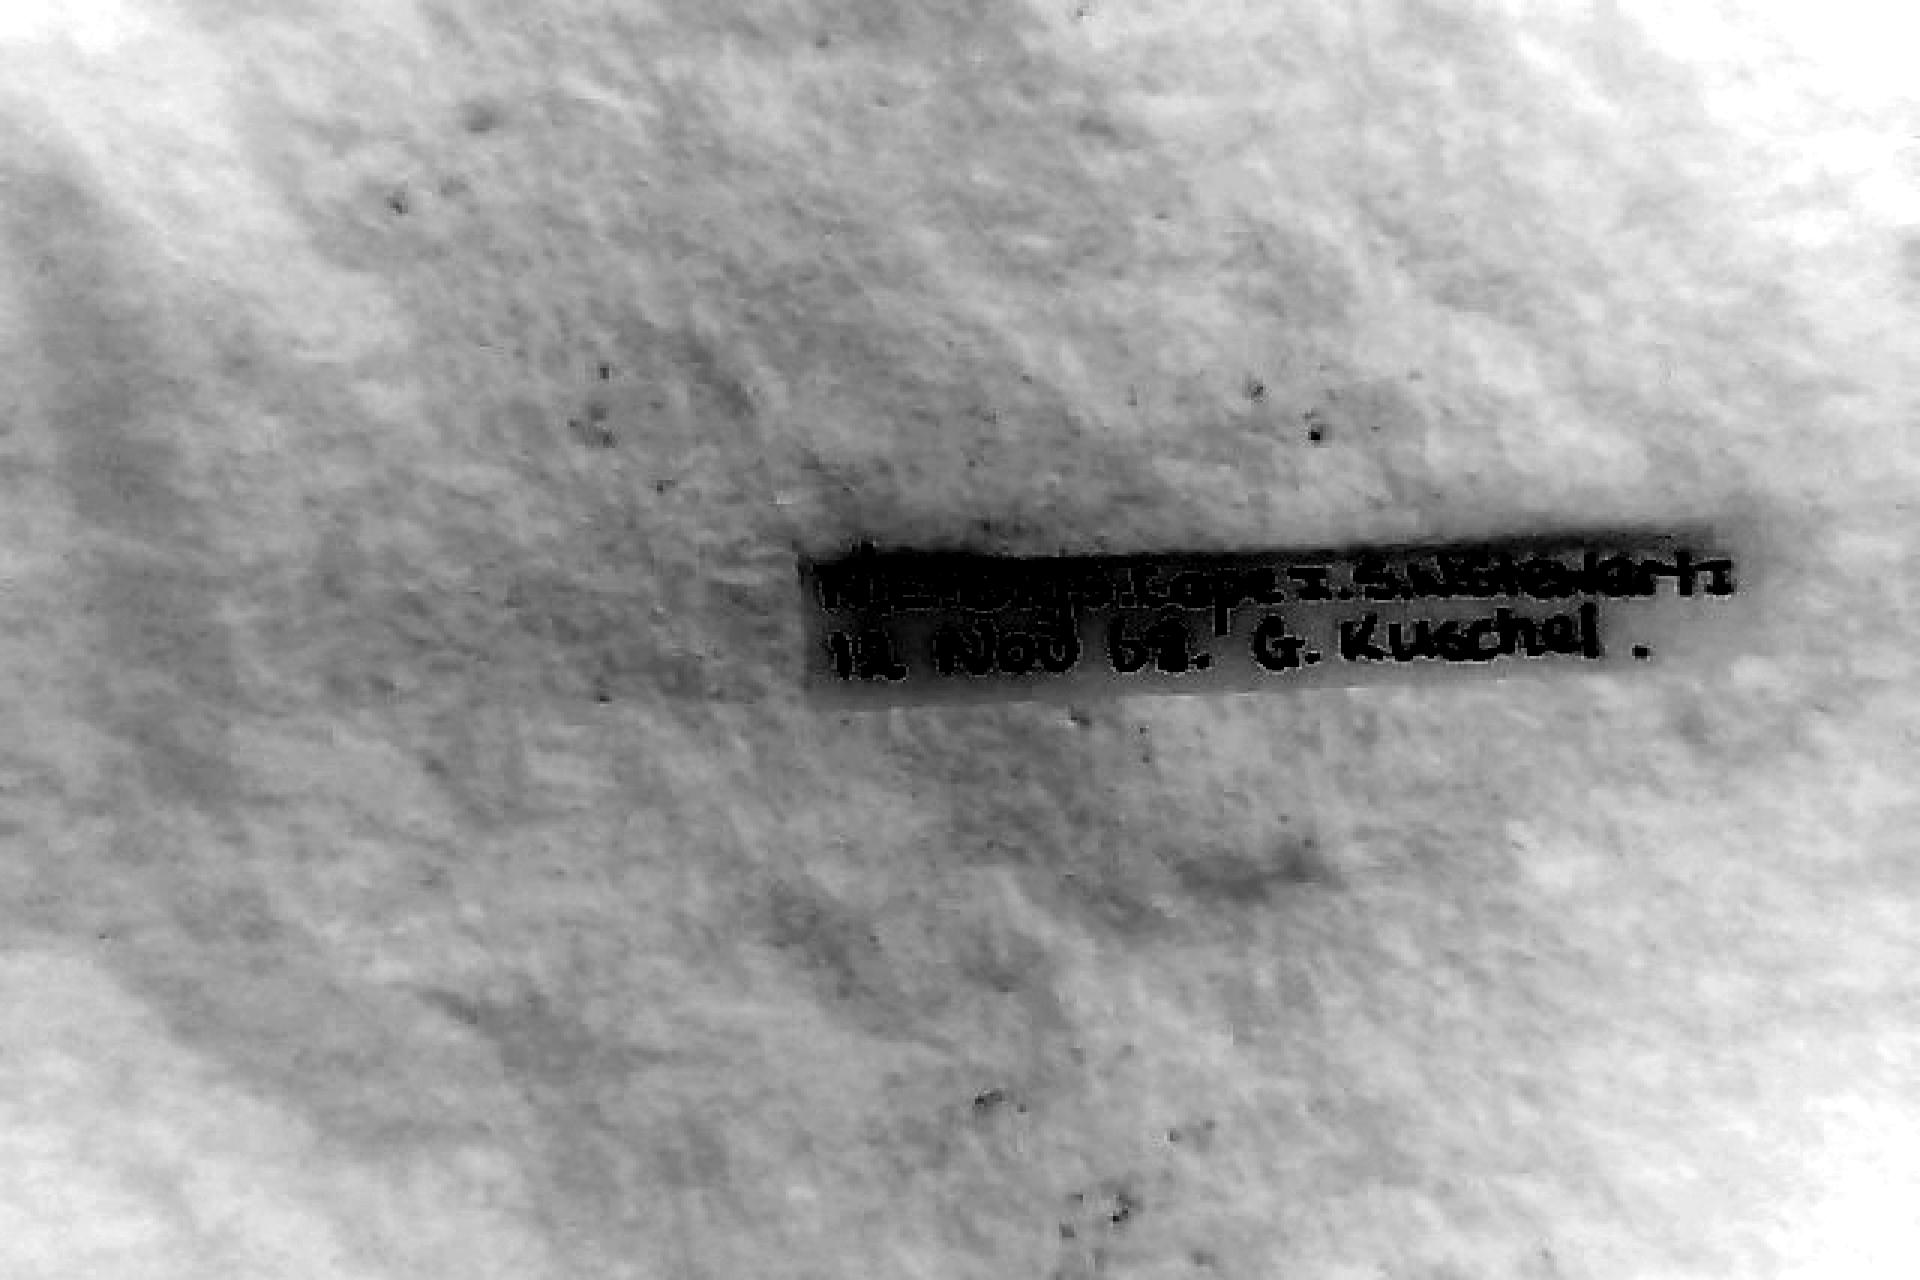hand_label: (808, 533, 1740, 707)
